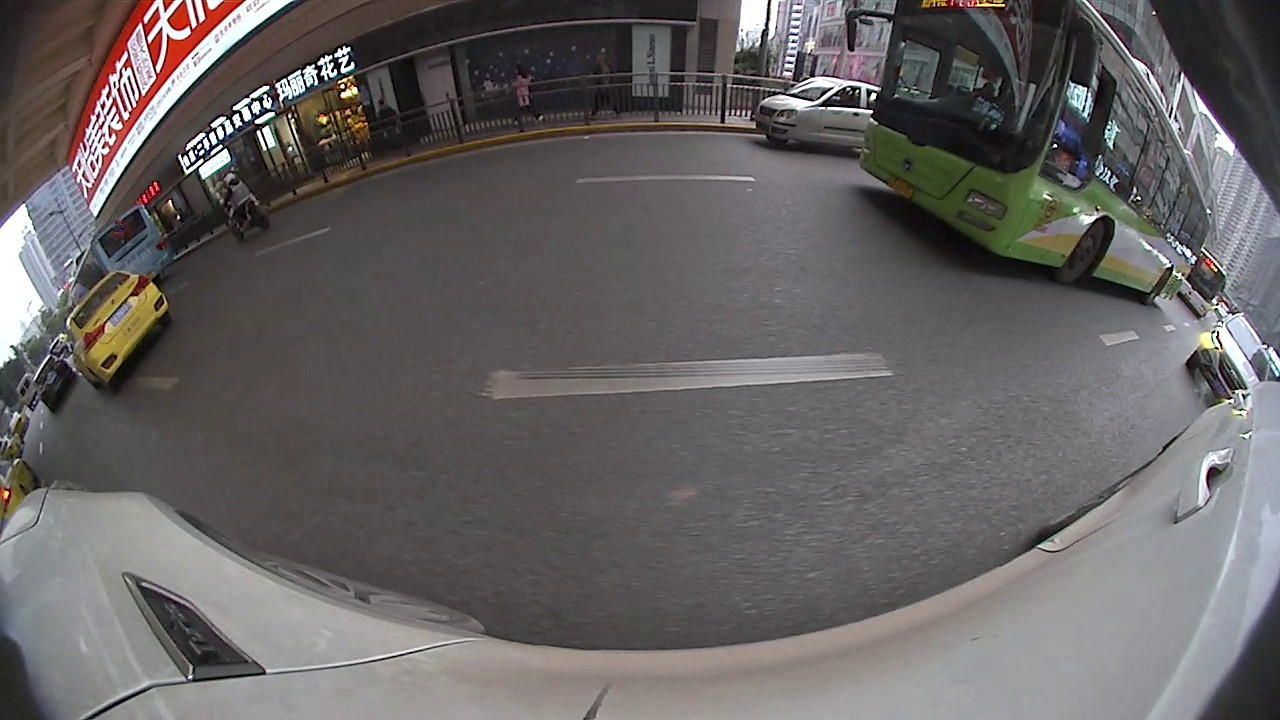bus: (862, 3, 1212, 307), (64, 200, 178, 311), (1173, 254, 1233, 323)
car: (62, 267, 171, 392), (756, 76, 888, 160), (1187, 312, 1274, 407), (31, 348, 78, 411)
front: (1062, 218, 1109, 286)
rider: (216, 170, 270, 239)
